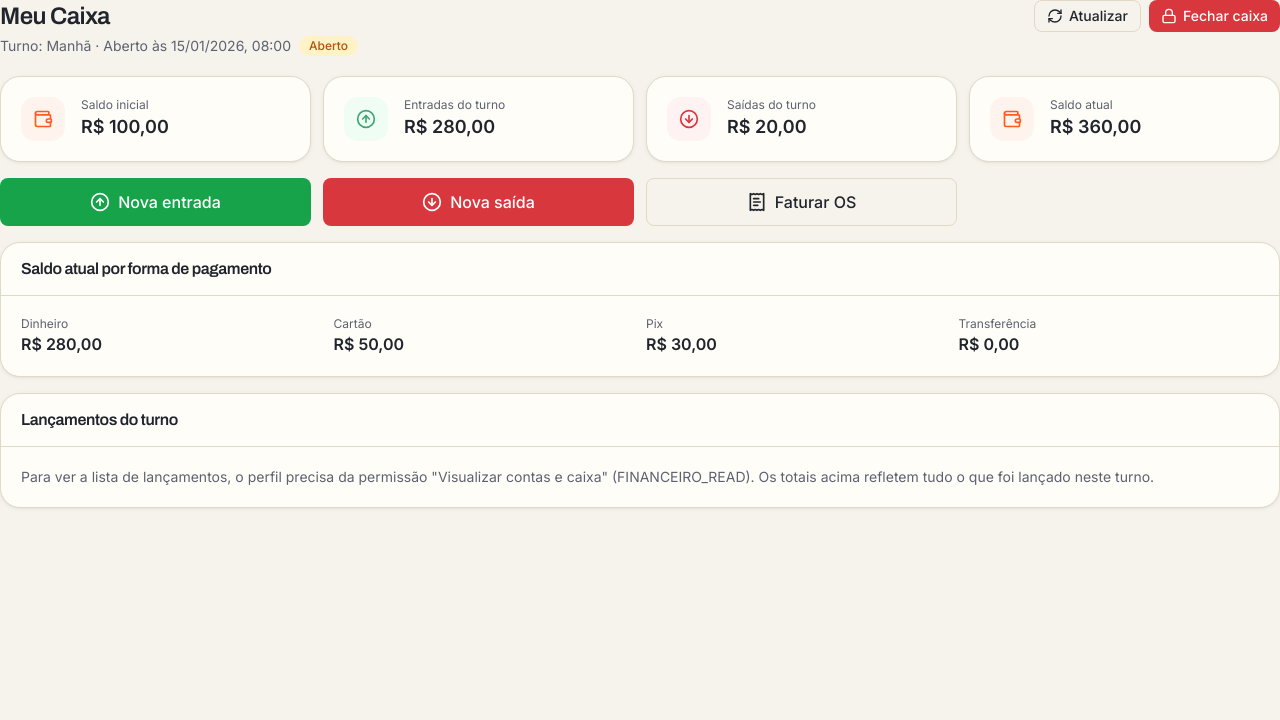
it: MeuCaixaPage › opens the FaturarOSModal from "Faturar OS"
Click the button "Faturar OS".
click(802, 202)  # box [646,178,957,226]
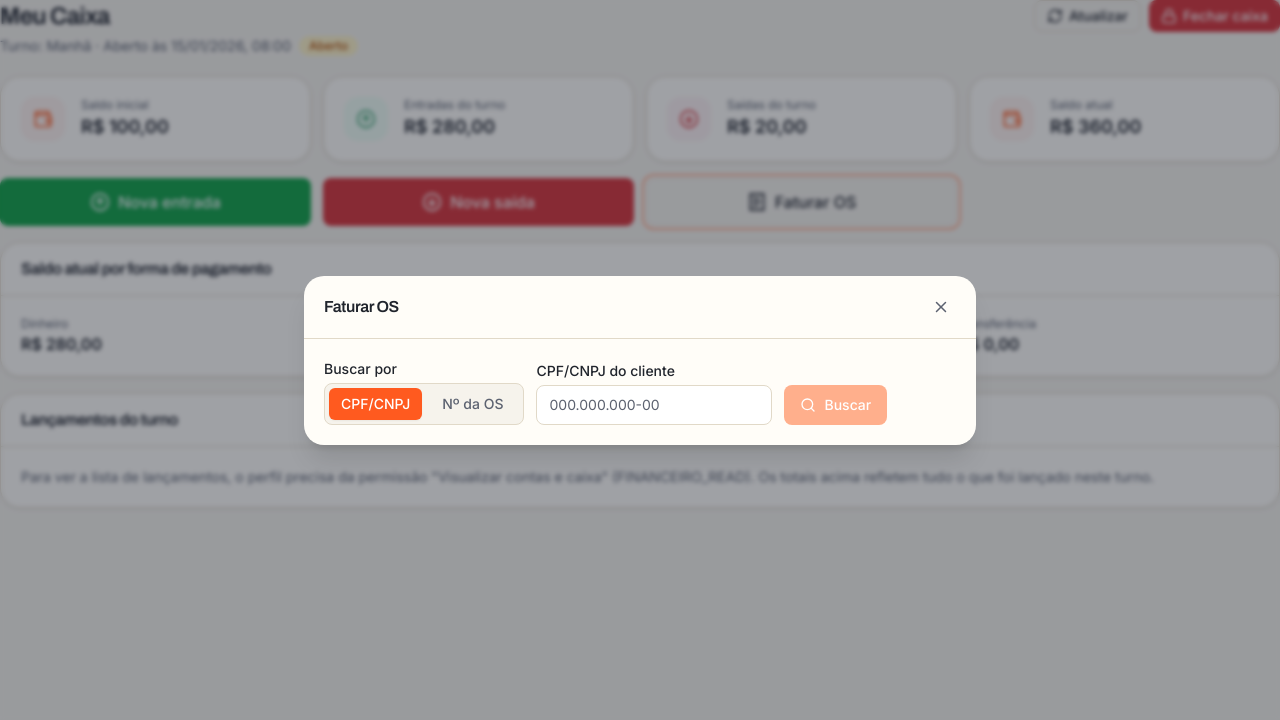
Now the heading "Faturar OS" is shown, box [324,294,399,318]
